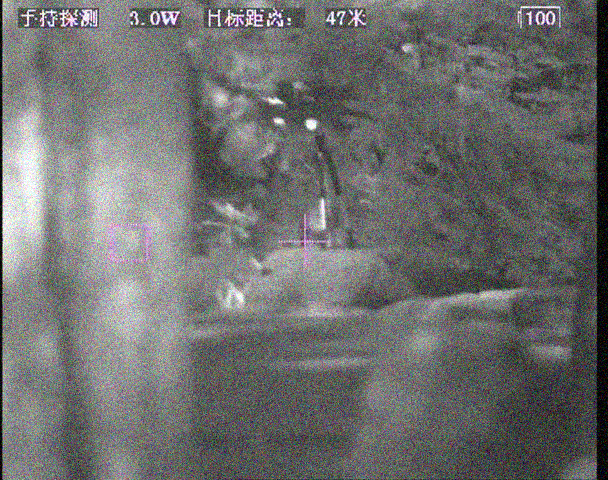my: (304, 118, 318, 132)
